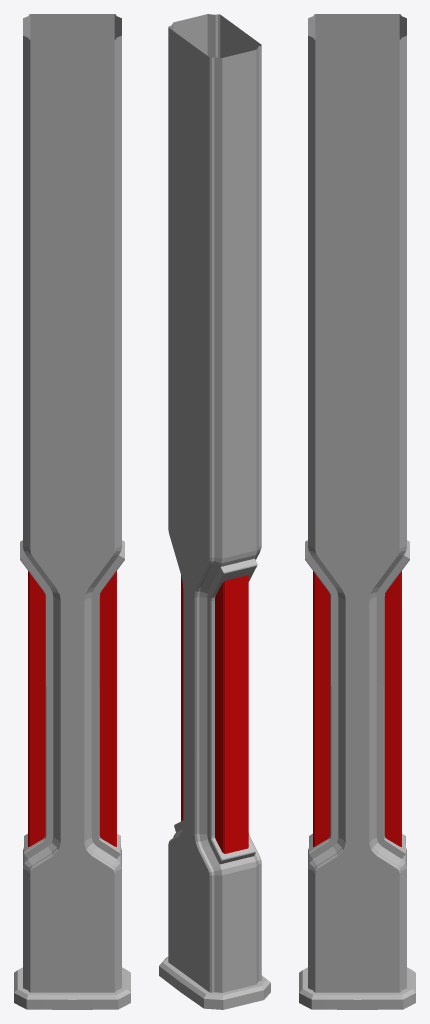
The model's file is PIllar replacement.fbx.
The picture shows the model from 3 angles, left to right: view 1: azimuth 90°, elevation 25°; view 2: azimuth 210°, elevation 25°; view 3: azimuth 270°, elevation 25°; orthographic projection.
Visible parts, largest first — view 1: pillar replace; view 2: pillar replace; view 3: pillar replace.
Boxes of the visible parts, x1=… form: pillar replace: x1=14, y1=14, x2=130, y2=1009; pillar replace: x1=159, y1=14, x2=270, y2=1009; pillar replace: x1=299, y1=14, x2=415, y2=1009.
Size of the model in its own units: 1.55 by 20.5 by 2.25.
